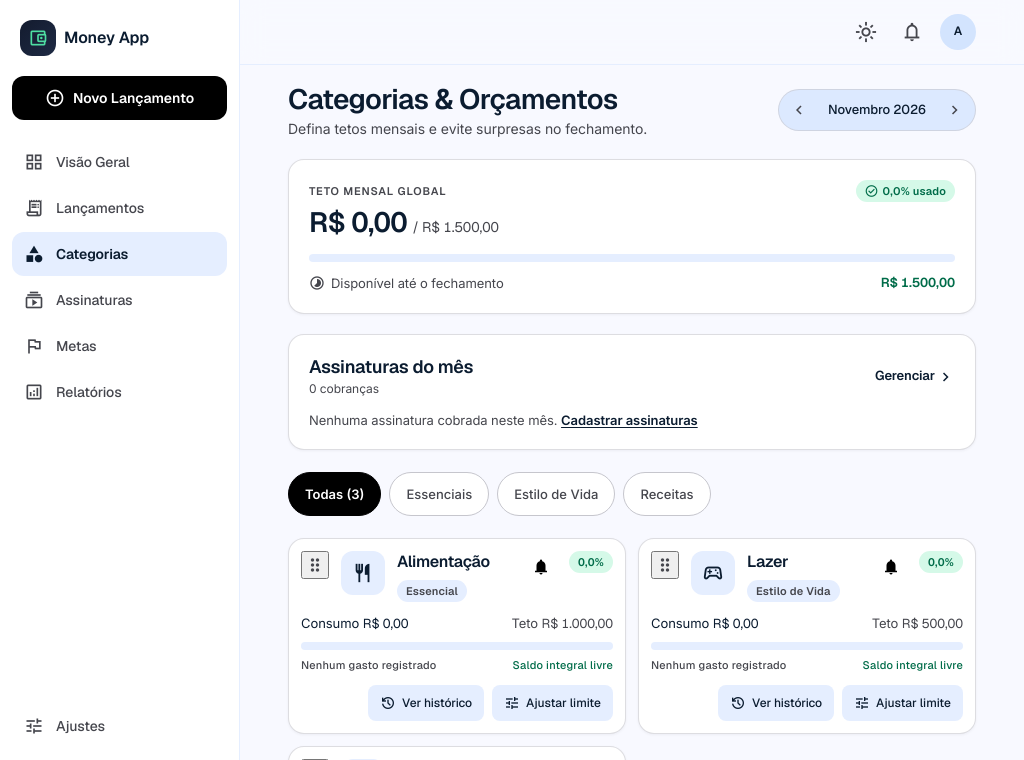
navegação para meses futuros › Categorias e Relatórios funcionam em um mês futuro sem lançamentos
Expected: the heading "Categorias & Orçamentos" is shown, [288, 81, 647, 117]
Click the button named "Próximo mês": (955, 110) [939, 94, 971, 126]
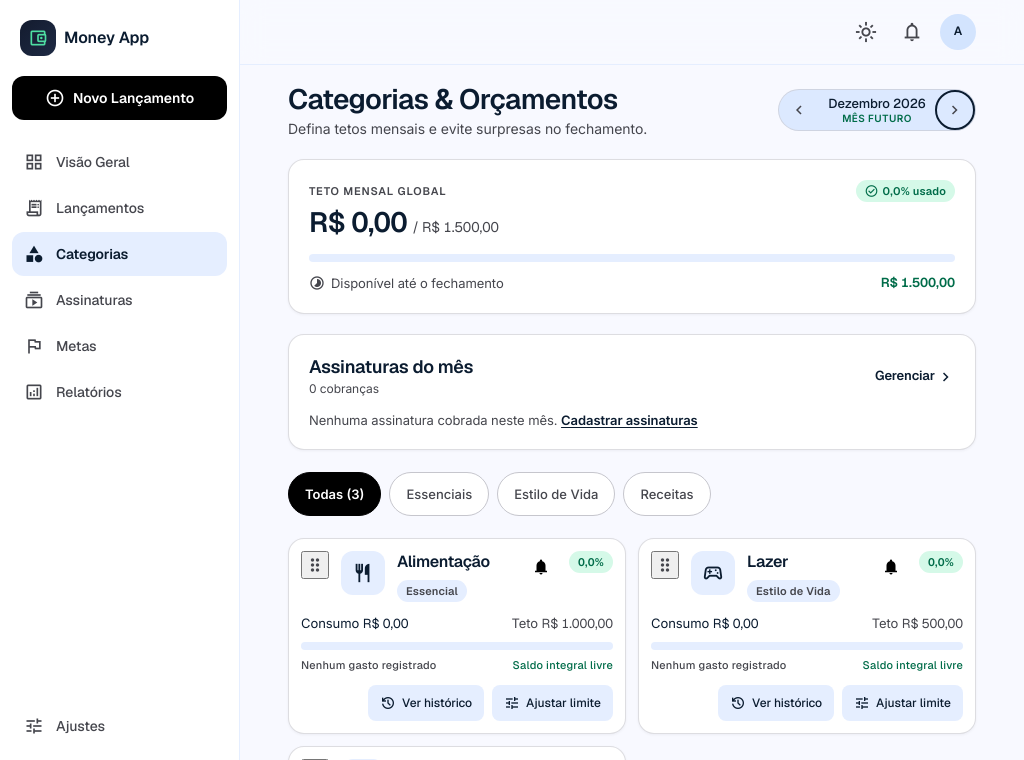
Now the text "Mês futuro" is shown, box [842, 112, 912, 124]
Click the link "Relatórios": (73, 392) [24, 380, 122, 404]
(page scrolled)
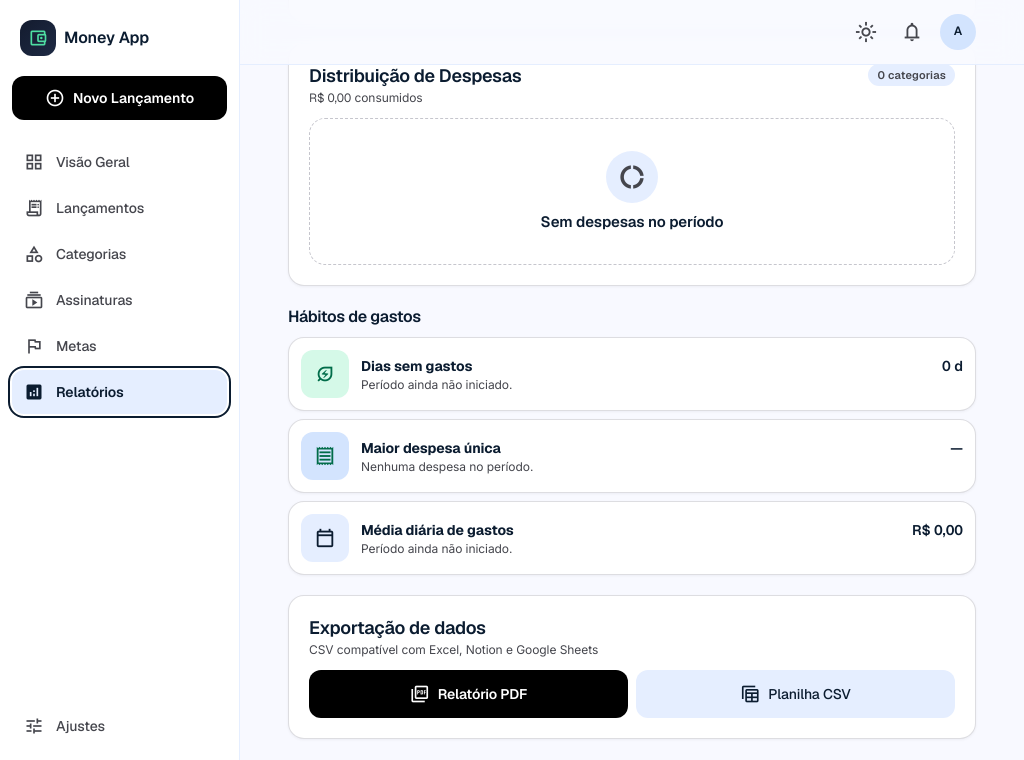
Now the text "Período ainda não iniciado." below "Dias sem gastos" is shown, box [361, 377, 512, 392]
